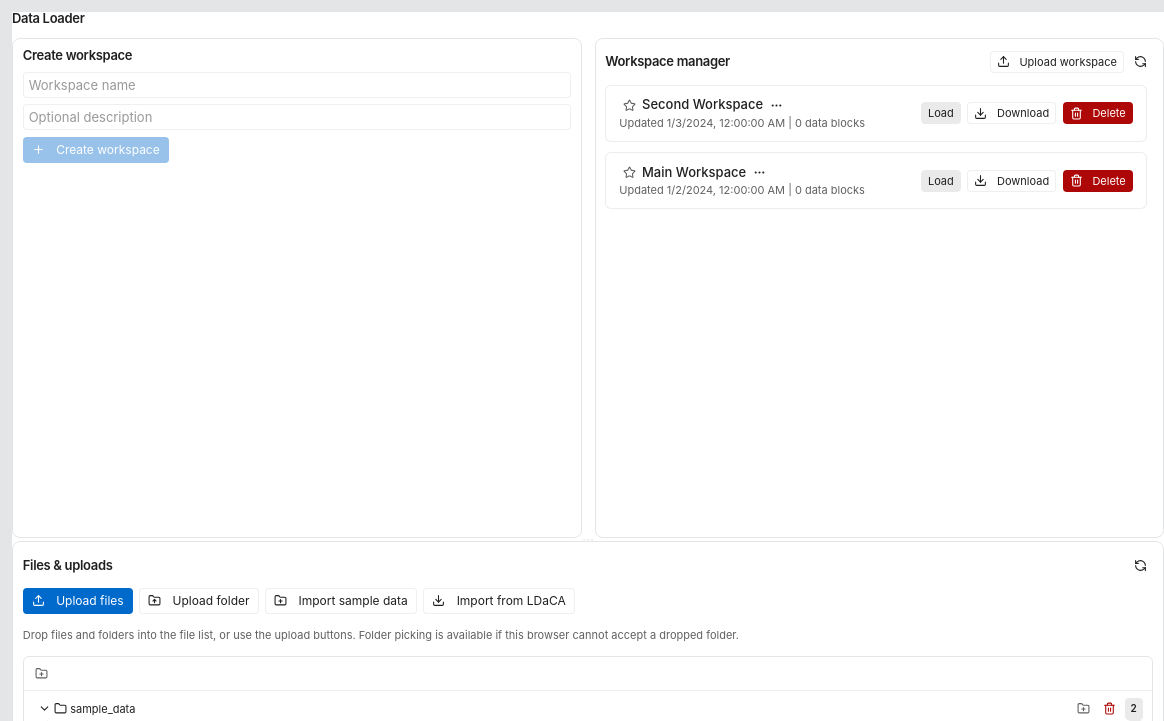
Test: DataLoaderFeature citation UI › serializes pending Load controls and shows the target loading state
This screenshot has width=1164, height=721.
Click the button "Load" in the row of "1/2/2024, 12:00:00 AM" at {"x": 941, "y": 180}, box [921,170,961,192]
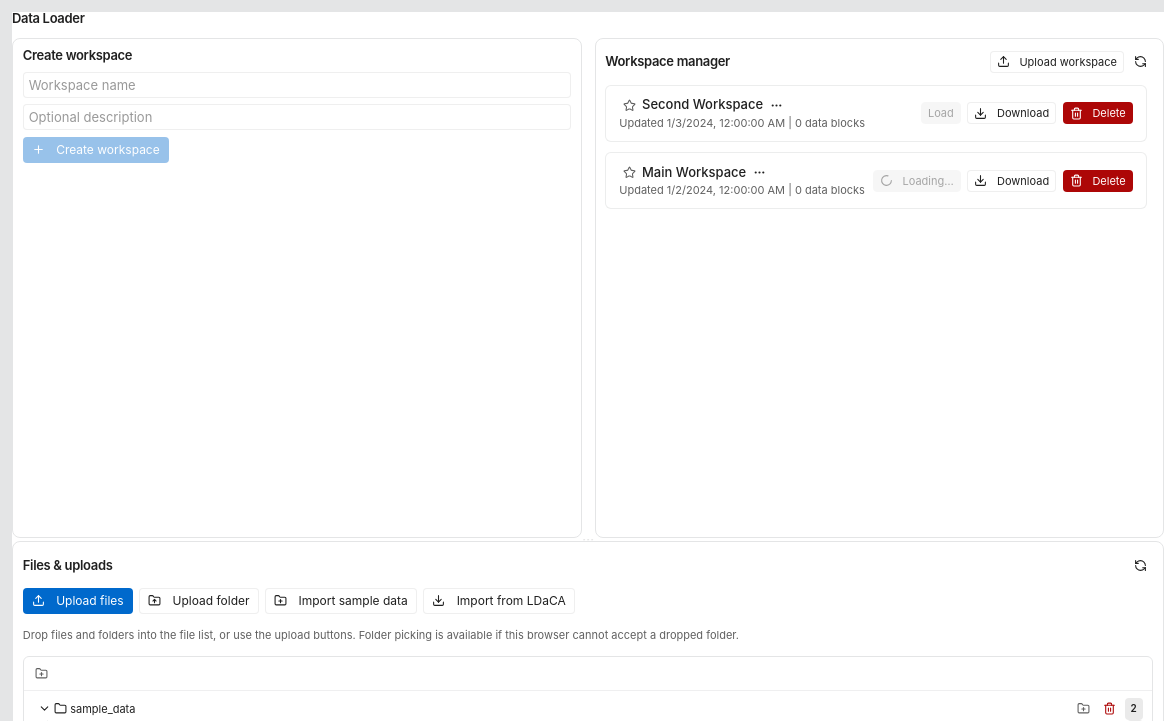
Check: the button "Loading…" is disabled, box [873,170,961,192]
Check: the button "Load" is disabled
Click the button "Load" at {"x": 941, "y": 113}, box [921,102,961,124]
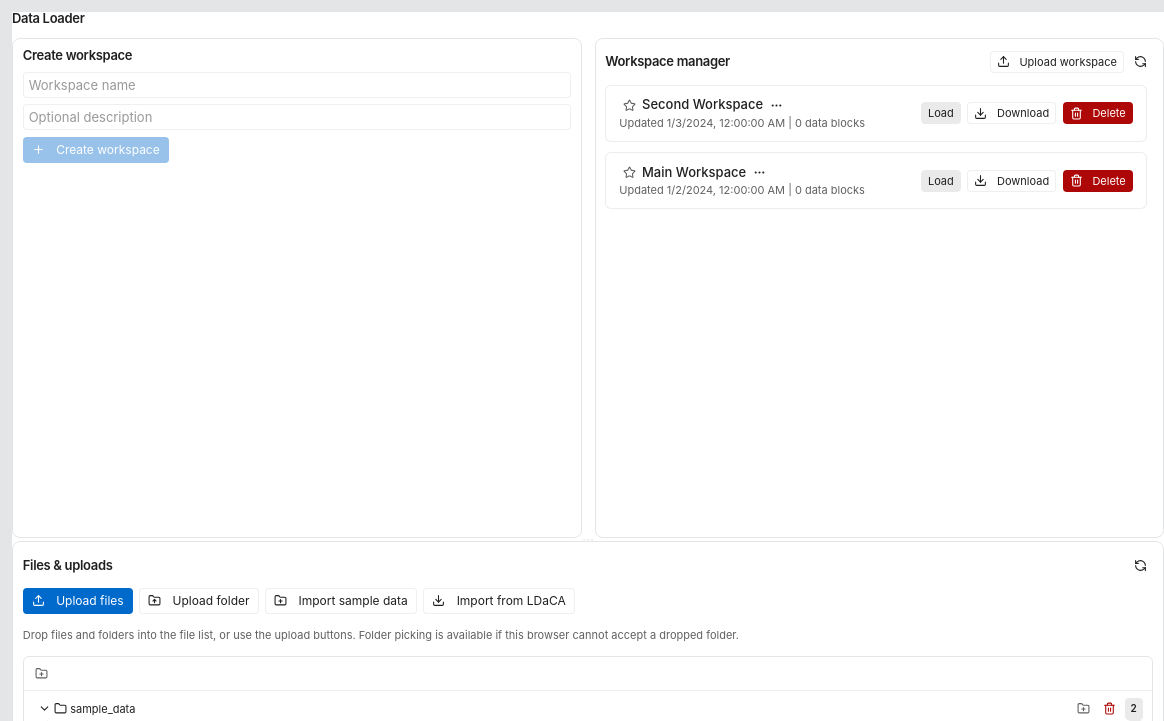
Check: the button "Load" in the row of "1/3/2024, 12:00:00 AM" is enabled, box [921,102,961,124]
